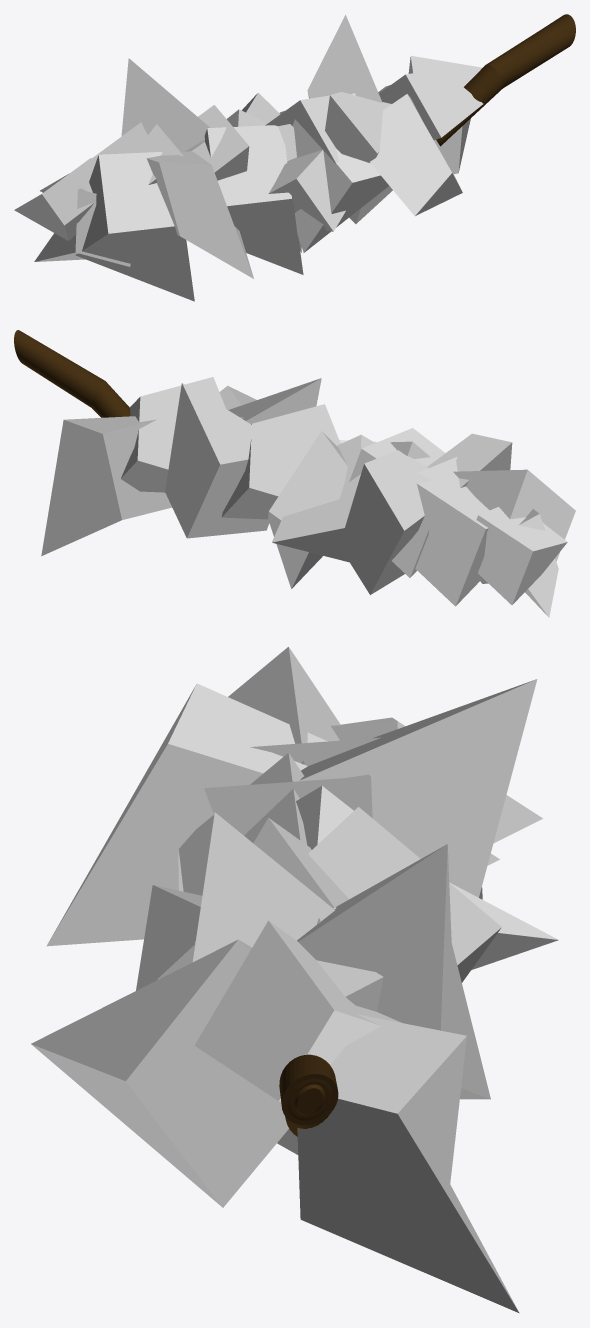
Rendered from Gemstones.glb.
3 renders of one model, top to bottom at view 1: azimuth 30°, elevation 25°; view 2: azimuth 150°, elevation 25°; view 3: azimuth 270°, elevation 25°, orthographic. The views are drawn at different scales.
Parts seen in each view (by area): view 1: Cube, Cylinder; view 2: Cube, Cylinder; view 3: Cube, Cylinder.
Part boxes in pixels (box(x1,y1,x2,y2)): Cube: box(14, 15, 483, 301); Cylinder: box(436, 14, 575, 146); Cube: box(41, 377, 575, 617); Cylinder: box(14, 330, 130, 417); Cube: box(31, 646, 558, 1313); Cylinder: box(279, 1054, 338, 1136).
Size of the model in its own units: 2.58 by 0.9443 by 1.14.
